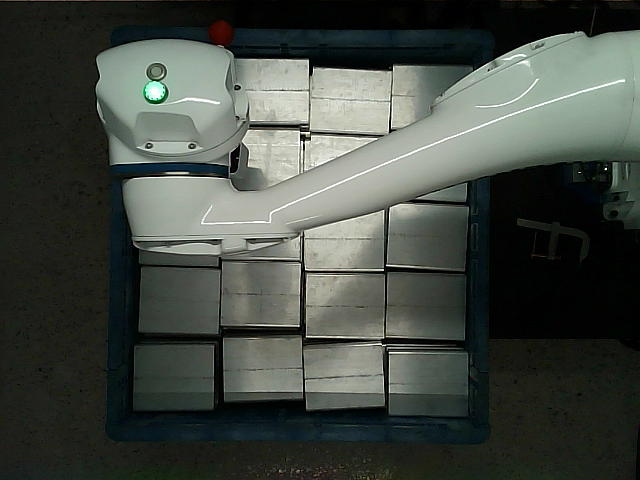green_light: (143, 81, 167, 103)
